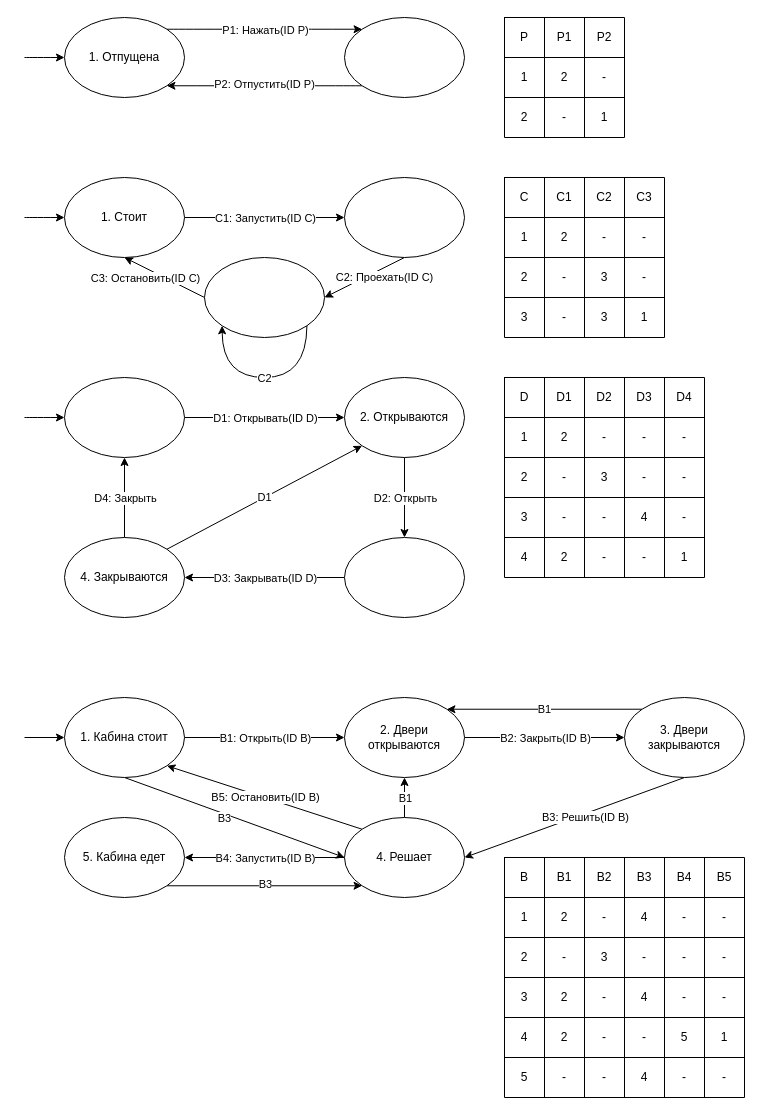
Image size: 762x1115. Some labels were removed from this diagram. Each missing label, with the centre of its shape:
1. Закрыты: the point at 124,417
2. Нажата: the point at 404,57
2. Отъехала: the point at 404,217
3. Едет: the point at 264,297
3. Открыты: the point at 404,577
